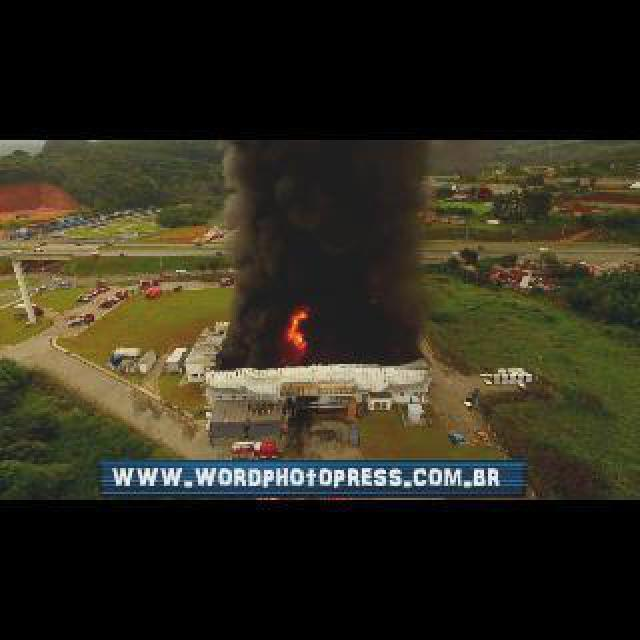Fire: (286, 304, 312, 354)
Smoke: (224, 140, 438, 368)
